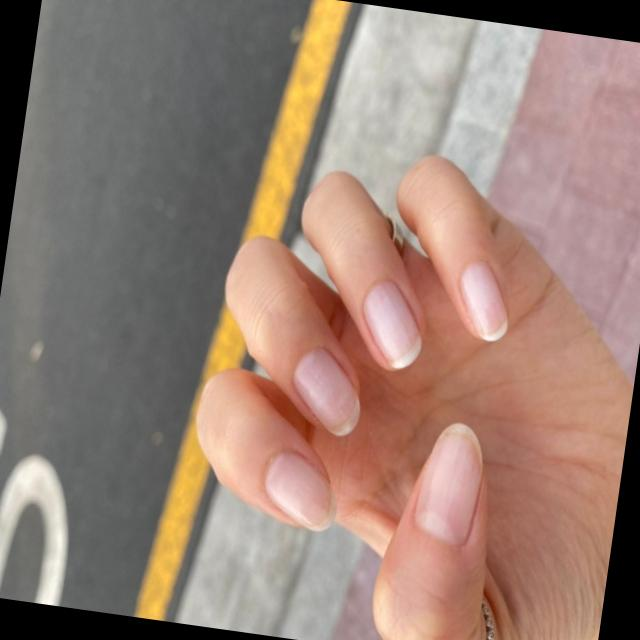Nail: (415, 422, 483, 544), (294, 348, 360, 436), (265, 450, 335, 530), (364, 281, 421, 368), (461, 261, 508, 340)
